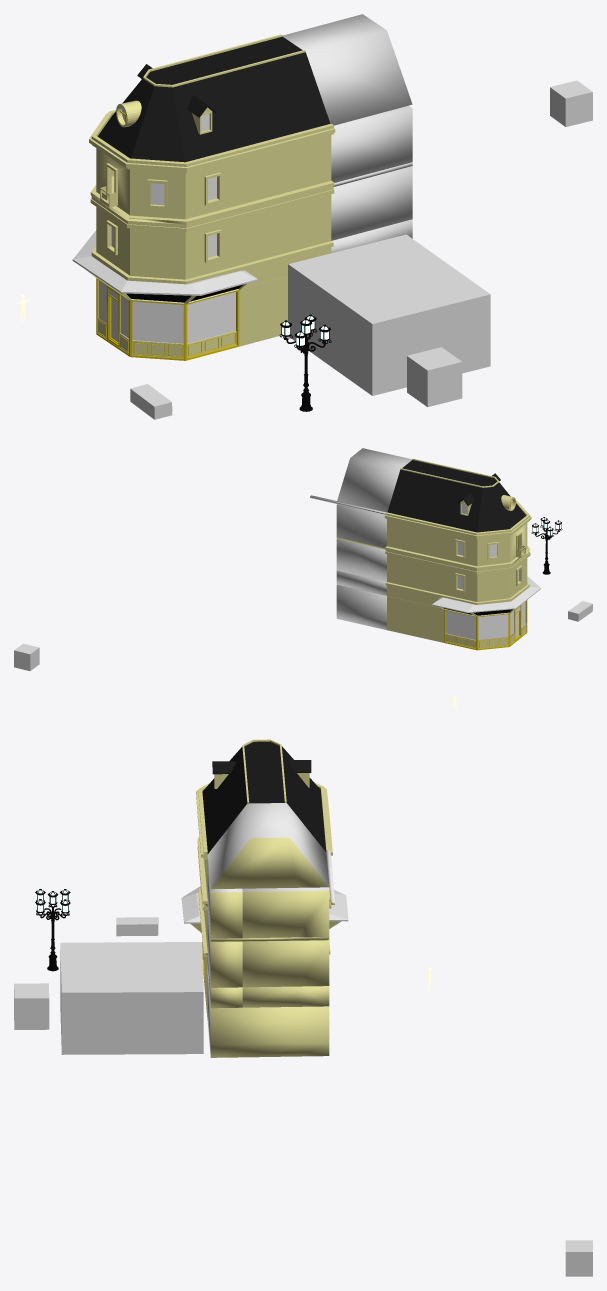
Rendered from city.glb.
The picture shows the model from 3 angles, top to bottom: view 1: azimuth 30°, elevation 25°; view 2: azimuth 150°, elevation 25°; view 3: azimuth 270°, elevation 25°; orthographic projection. The views are drawn at different scales.
Visible parts, largest first — view 1: BOULANGERIE, startPosition, Cube, pied; view 2: BOULANGERIE, Cube, pied, startPosition; view 3: BOULANGERIE, startPosition, pied, Cube.
Boxes of the visible parts, box(x1,y1,x2,y2) form: BOULANGERIE: box(72, 14, 412, 360); startPosition: box(130, 234, 490, 419); Cube: box(550, 80, 592, 126); pied: box(279, 314, 331, 411); BOULANGERIE: box(310, 448, 540, 650); Cube: box(14, 643, 39, 670); pied: box(531, 517, 562, 574); startPosition: box(568, 601, 592, 621); BOULANGERIE: box(181, 739, 348, 1057); startPosition: box(14, 917, 203, 1054); pied: box(35, 889, 70, 971); Cube: box(565, 1240, 592, 1276).
Size of what is drawn, in the model's own units: 51.21 by 22.42 by 42.62.
13 materials, 2 textured.
